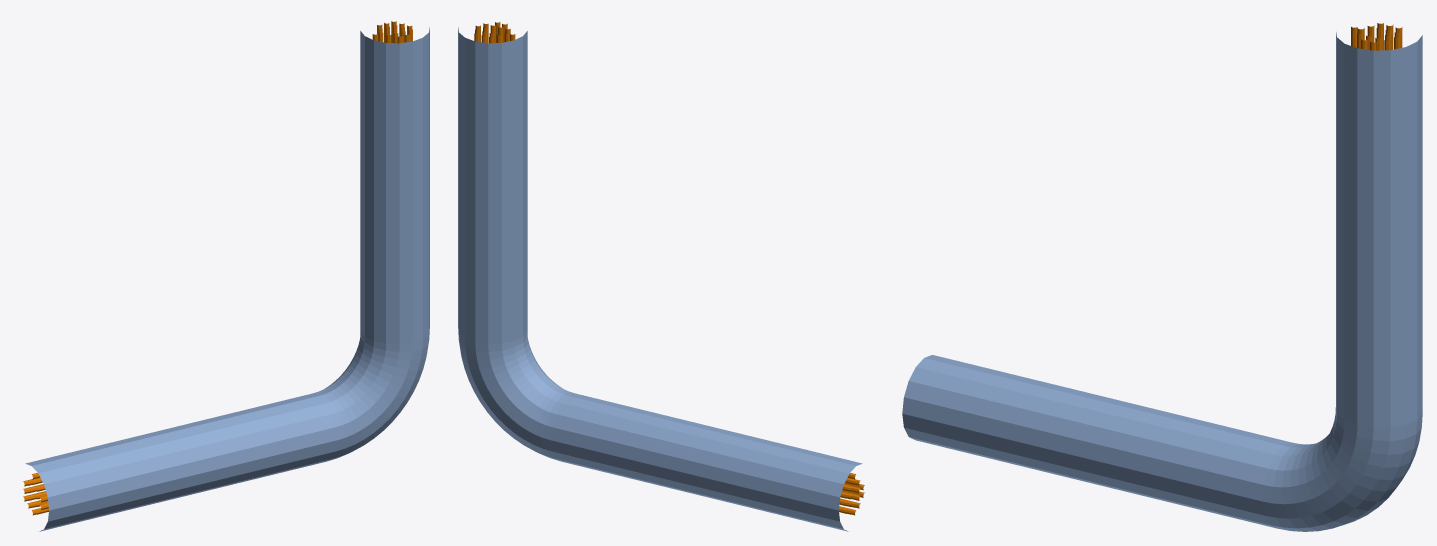
File: 3_bent.glb
3 views of the same model, side by side, from view 1: azimuth 30°, elevation 25°; view 2: azimuth 150°, elevation 25°; view 3: azimuth 330°, elevation 25° (orthographic). The views are drawn at different scales.
Parts seen in each view (by area): view 1: world; view 2: world; view 3: world.
Boxes of the visible parts, x1,y1,x2,y2 form: world: (23, 21, 429, 531); world: (458, 22, 864, 531); world: (902, 23, 1422, 531).
Size of the model in its own units: 130 by 130 by 20.
